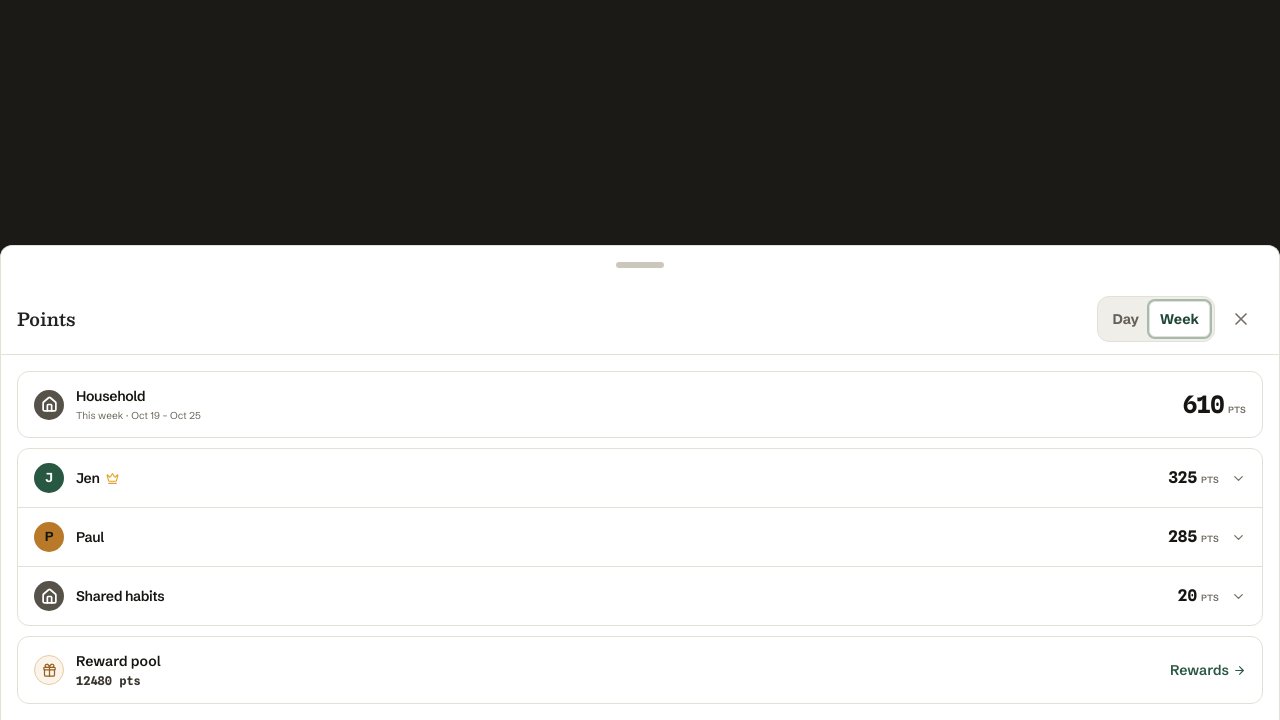
Test: PointsBreakdownDrawer › Shared habits row (household-points-visibility) › narrows the Household value to today in Day view while the WEEK figure covers the whole week
The width and height of the screenshot is (1280, 720).
Expected: the element with test id "points-drawer-household-row" shows "20", [18, 567, 1262, 625]
Click the radio button labelled "Day".
click(1126, 319)  # box [1102, 301, 1149, 337]
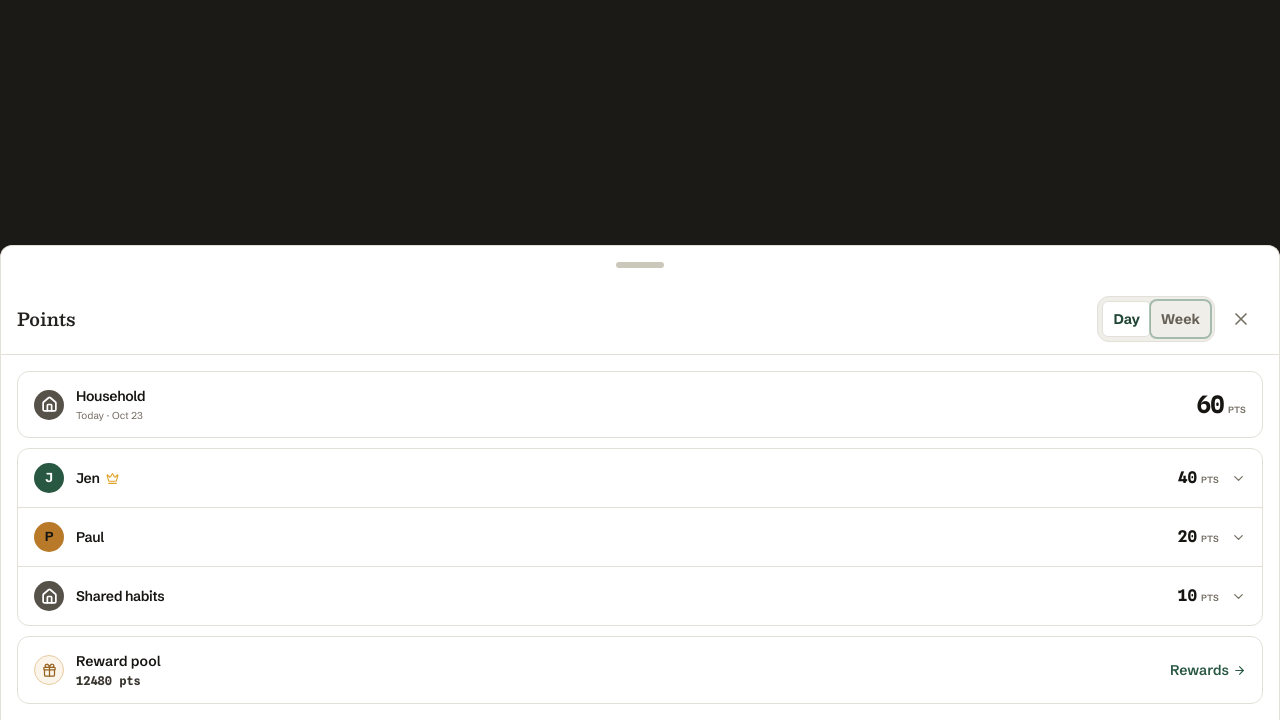
Now the element with test id "points-drawer-household-row" shows "10", box [18, 567, 1262, 625]
